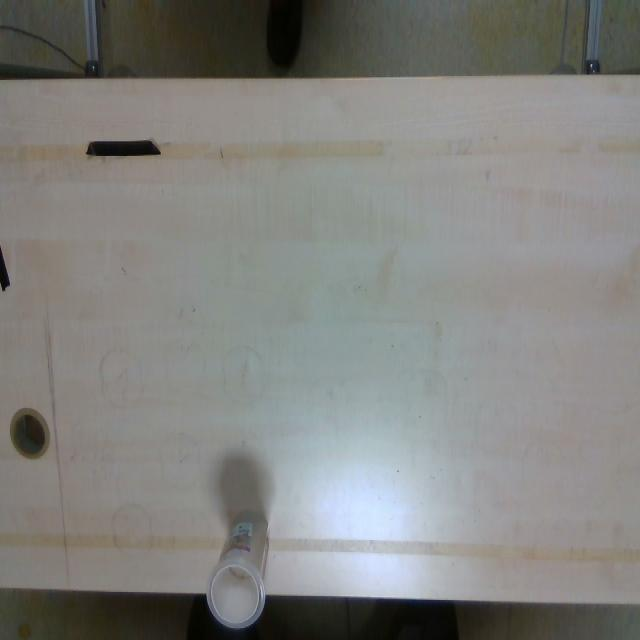cups: (206, 508, 271, 630)
